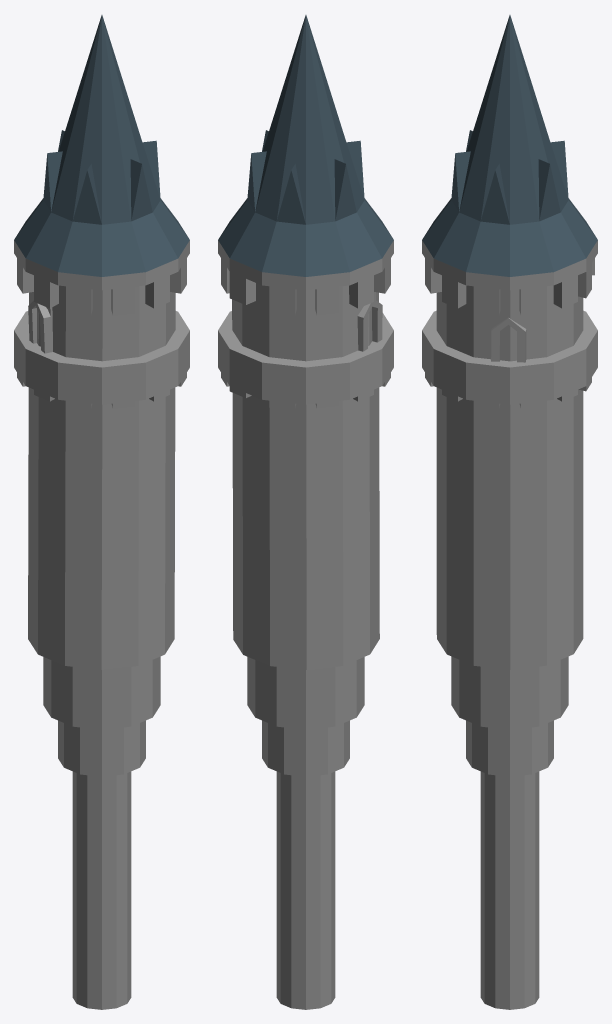
File: castle.glb
3 renders of one model, left to right at view 1: azimuth 30°, elevation 25°; view 2: azimuth 150°, elevation 25°; view 3: azimuth 270°, elevation 25°, orthographic.
Visible parts, largest first — view 1: group989038873, group573585485, group1133496033, group914918181, group428610946, group1574559661, group4049121, group242520386, group1942846485, group1819901827, group887438646; view 2: group989038873, group573585485, group1133496033, group914918181, group4049121, group428610946, group1574559661, group1942846485, group1819901827, group242520386, group887438646; view 3: group989038873, group573585485, group1133496033, group914918181, group428610946, group1574559661, group242520386, group4049121, group1942846485, group1819901827, group1243653458.
Boxes of the visible parts, x1=… form: group989038873: x1=28, y1=285, x2=175, y2=669; group573585485: x1=72, y1=771, x2=131, y2=1009; group1133496033: x1=51, y1=15, x2=160, y2=224; group914918181: x1=14, y1=198, x2=189, y2=276; group428610946: x1=43, y1=656, x2=160, y2=729; group1574559661: x1=14, y1=240, x2=189, y2=315; group4049121: x1=14, y1=311, x2=189, y2=404; group242520386: x1=17, y1=333, x2=189, y2=408; group1942846485: x1=58, y1=720, x2=145, y2=776; group1819901827: x1=43, y1=130, x2=160, y2=224; group887438646: x1=28, y1=300, x2=52, y2=353; group989038873: x1=232, y1=283, x2=379, y2=669; group573585485: x1=276, y1=771, x2=335, y2=1009; group1133496033: x1=255, y1=15, x2=364, y2=224; group914918181: x1=218, y1=198, x2=393, y2=276; group4049121: x1=218, y1=311, x2=393, y2=404; group428610946: x1=247, y1=657, x2=364, y2=729; group1574559661: x1=218, y1=240, x2=393, y2=315; group1942846485: x1=262, y1=720, x2=349, y2=776; group1819901827: x1=247, y1=130, x2=364, y2=224; group242520386: x1=218, y1=333, x2=390, y2=408; group887438646: x1=357, y1=292, x2=382, y2=351; group989038873: x1=436, y1=285, x2=583, y2=669; group573585485: x1=480, y1=771, x2=539, y2=1009; group1133496033: x1=459, y1=15, x2=568, y2=224; group914918181: x1=422, y1=198, x2=597, y2=276; group428610946: x1=451, y1=656, x2=568, y2=729; group1574559661: x1=422, y1=240, x2=597, y2=315; group242520386: x1=422, y1=333, x2=597, y2=408; group4049121: x1=422, y1=310, x2=597, y2=404; group1942846485: x1=466, y1=720, x2=553, y2=776; group1819901827: x1=451, y1=130, x2=568, y2=224; group1243653458: x1=491, y1=317, x2=526, y2=362.
Size of the model in its own units: 0.12 by 0.74 by 0.12.
